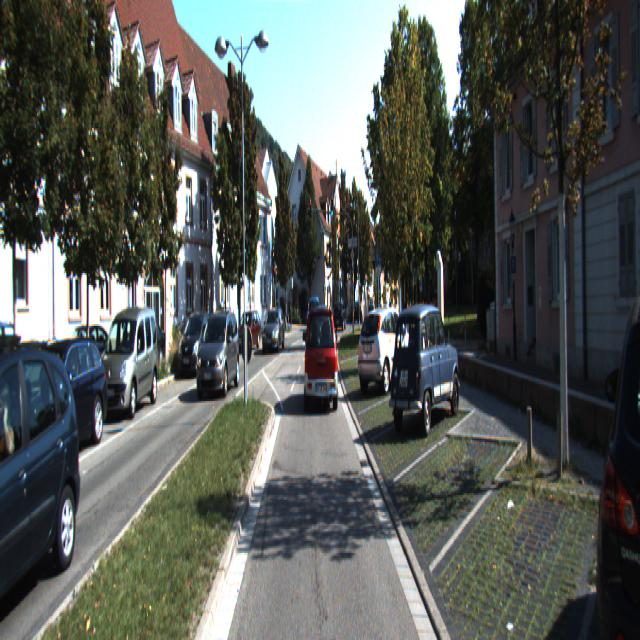Car: (0, 330, 88, 634), (0, 331, 105, 481), (598, 272, 640, 638), (387, 303, 462, 443), (97, 307, 159, 425), (357, 304, 416, 392), (194, 311, 241, 402), (306, 307, 340, 413), (119, 312, 167, 377), (178, 311, 218, 377), (0, 314, 22, 391), (234, 312, 262, 355), (262, 309, 286, 353), (306, 296, 320, 330), (333, 301, 346, 332)
